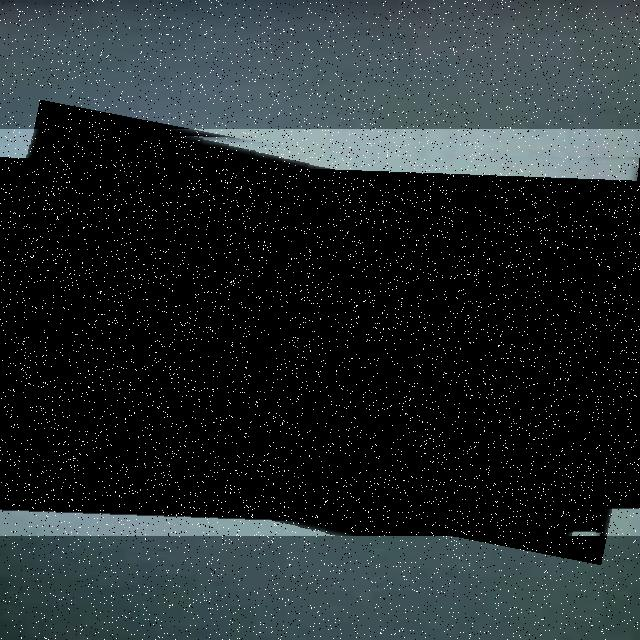lima puluh ribu rupiah: (0, 129, 640, 536)
